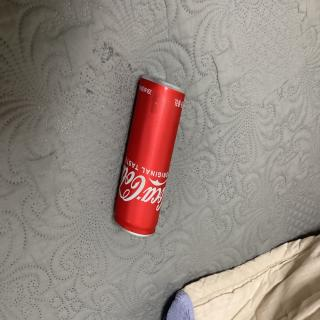cocacola: (111, 73, 185, 237)
